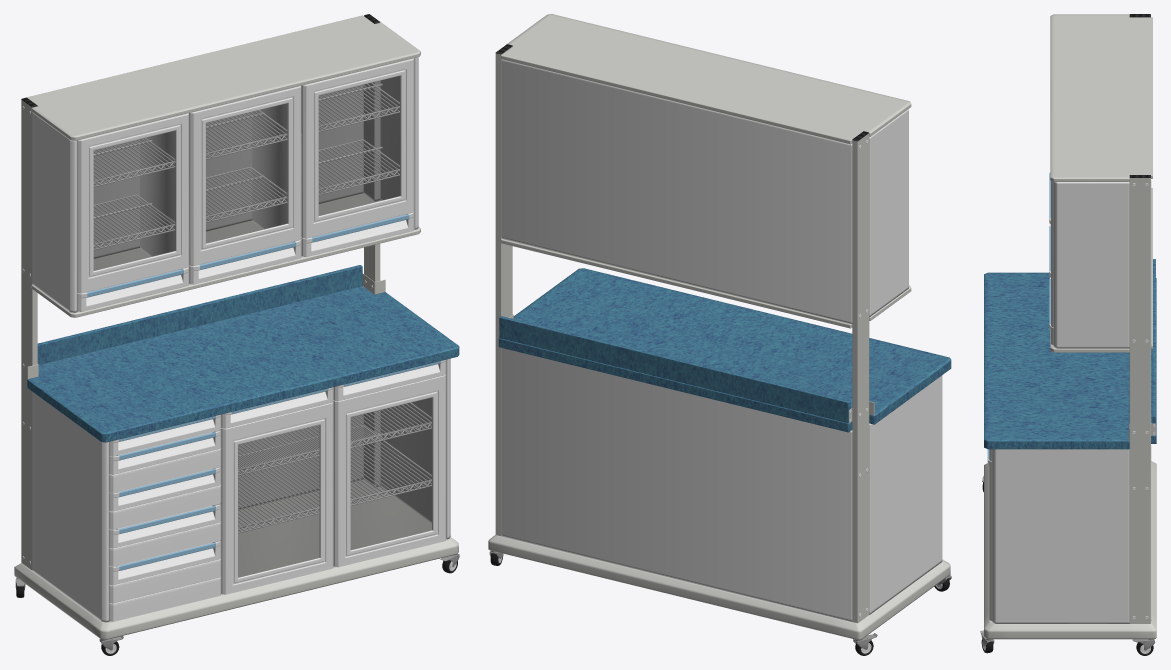
The model's file is hospital_medical_treatment_cabinet.glb.
3 renders of one model, left to right at view 1: azimuth 30°, elevation 25°; view 2: azimuth 150°, elevation 25°; view 3: azimuth 270°, elevation 25°, orthographic. The views are drawn at different scales.
Visible parts, largest first — view 1: Object_14, Object_2, Object_12, Object_3, Object_17, Object_16, Object_15, Object_10, Object_11, Object_4; view 2: Object_14, Object_12, Object_3; view 3: Object_14, Object_12, Object_3, Object_17, Object_16, Object_13, Object_4.
Part boxes in pixels (x1=…): Object_14: x1=22, y1=57, x2=456, y2=653; Object_2: x1=94, y1=76, x2=432, y2=577; Object_12: x1=14, y1=15, x2=458, y2=639; Object_3: x1=27, y1=265, x2=459, y2=442; Object_17: x1=77, y1=58, x2=414, y2=311; Object_16: x1=221, y1=359, x2=446, y2=594; Object_15: x1=109, y1=58, x2=446, y2=621; Object_10: x1=93, y1=83, x2=431, y2=532; Object_11: x1=93, y1=83, x2=431, y2=533; Object_4: x1=87, y1=214, x2=440, y2=570; Object_14: x1=498, y1=59, x2=942, y2=653; Object_12: x1=488, y1=14, x2=950, y2=640; Object_3: x1=498, y1=268, x2=951, y2=432; Object_14: x1=982, y1=179, x2=1155, y2=653; Object_12: x1=984, y1=14, x2=1156, y2=639; Object_3: x1=984, y1=259, x2=1156, y2=449; Object_17: x1=1049, y1=172, x2=1053, y2=344; Object_16: x1=989, y1=449, x2=991, y2=620; Object_13: x1=981, y1=14, x2=1153, y2=655; Object_4: x1=987, y1=173, x2=1050, y2=459.
Bounding box in the file's own units: 60.28 × 78.03 × 26.12.
8 materials, 2 textured.
